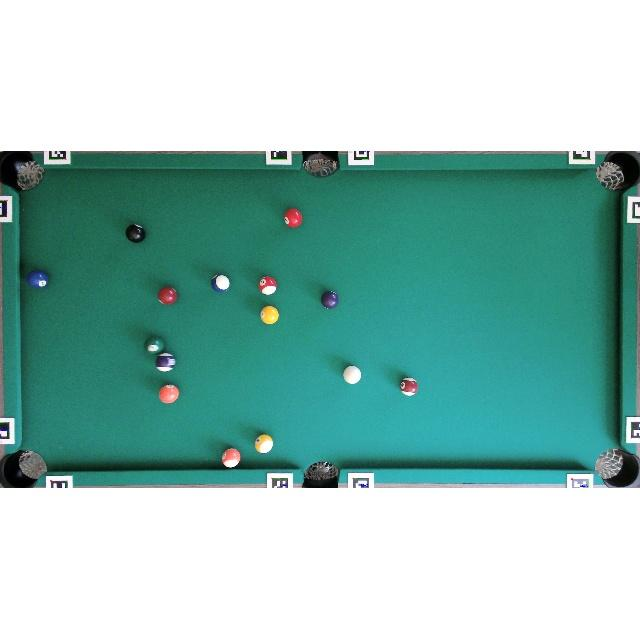cue ball: (343, 366, 361, 384)
other: (26, 269, 50, 289), (158, 384, 180, 404), (156, 352, 177, 372), (144, 335, 165, 355), (258, 275, 278, 295), (158, 286, 178, 306), (254, 434, 274, 454), (221, 448, 241, 468), (125, 224, 146, 243), (400, 377, 419, 397), (211, 274, 231, 293), (260, 305, 279, 325), (284, 208, 302, 228), (321, 290, 338, 309)
